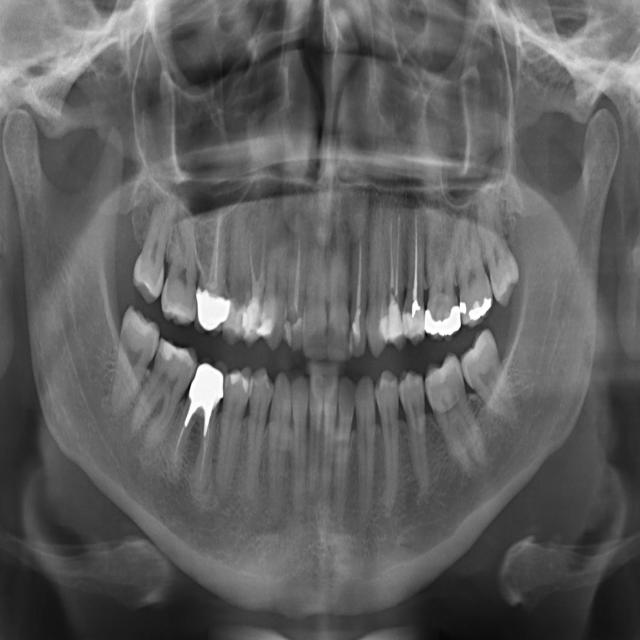AmalgamRestoration: (426, 311, 462, 338), (471, 296, 497, 324), (458, 292, 468, 314)
CompositeResinRestoration: (155, 338, 192, 375), (244, 308, 272, 342), (227, 369, 254, 393), (406, 308, 425, 341), (346, 321, 362, 353), (389, 305, 403, 338)
Crown: (190, 362, 229, 409), (196, 293, 229, 335)
DentalCaries: (320, 322, 337, 348), (185, 285, 198, 318), (283, 312, 299, 330), (458, 312, 471, 328)
RootCanalTreatment: (174, 406, 216, 498), (287, 224, 313, 317), (244, 227, 274, 300), (382, 214, 406, 297), (348, 238, 372, 320), (205, 216, 227, 294), (411, 196, 426, 291)
